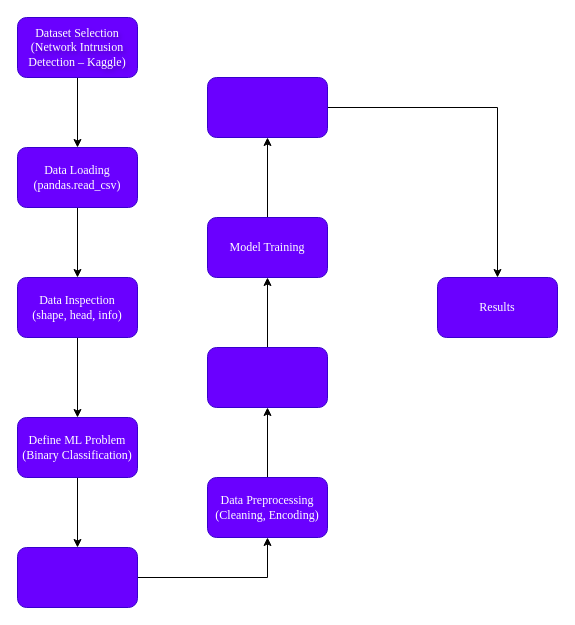
Some shapes in this 575 by 625 pixel diagram are drawn without their labels. The box of each missing label's shape, as (x1, y1, x2, y2) in pixels:
Define Target Variable (label: Normal / Intrusion): (16, 546, 138, 608)
Evaluation (Accuracy, Confusion Matrix): (206, 76, 328, 138)
Train / Test Split: (206, 346, 328, 408)
